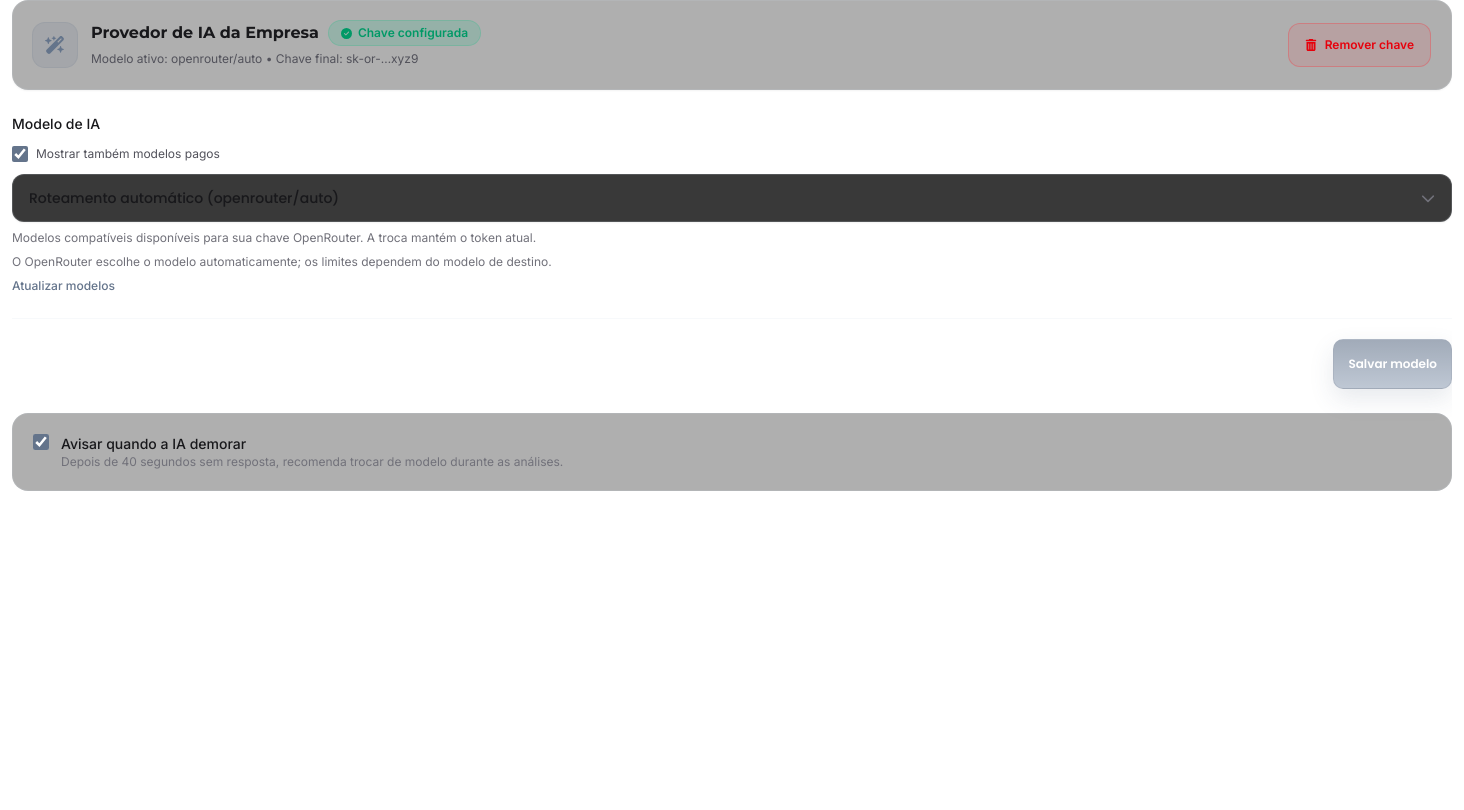
Test: FormIaSettings — cadastro e remoção da chave › filtro de modelos gratuitos › não inventa modelos gratuitos quando o catálogo só contém opções pagas
Click the checkbox labelled "Mostrar também modelos pagos": (20,154) [12,146,28,162]
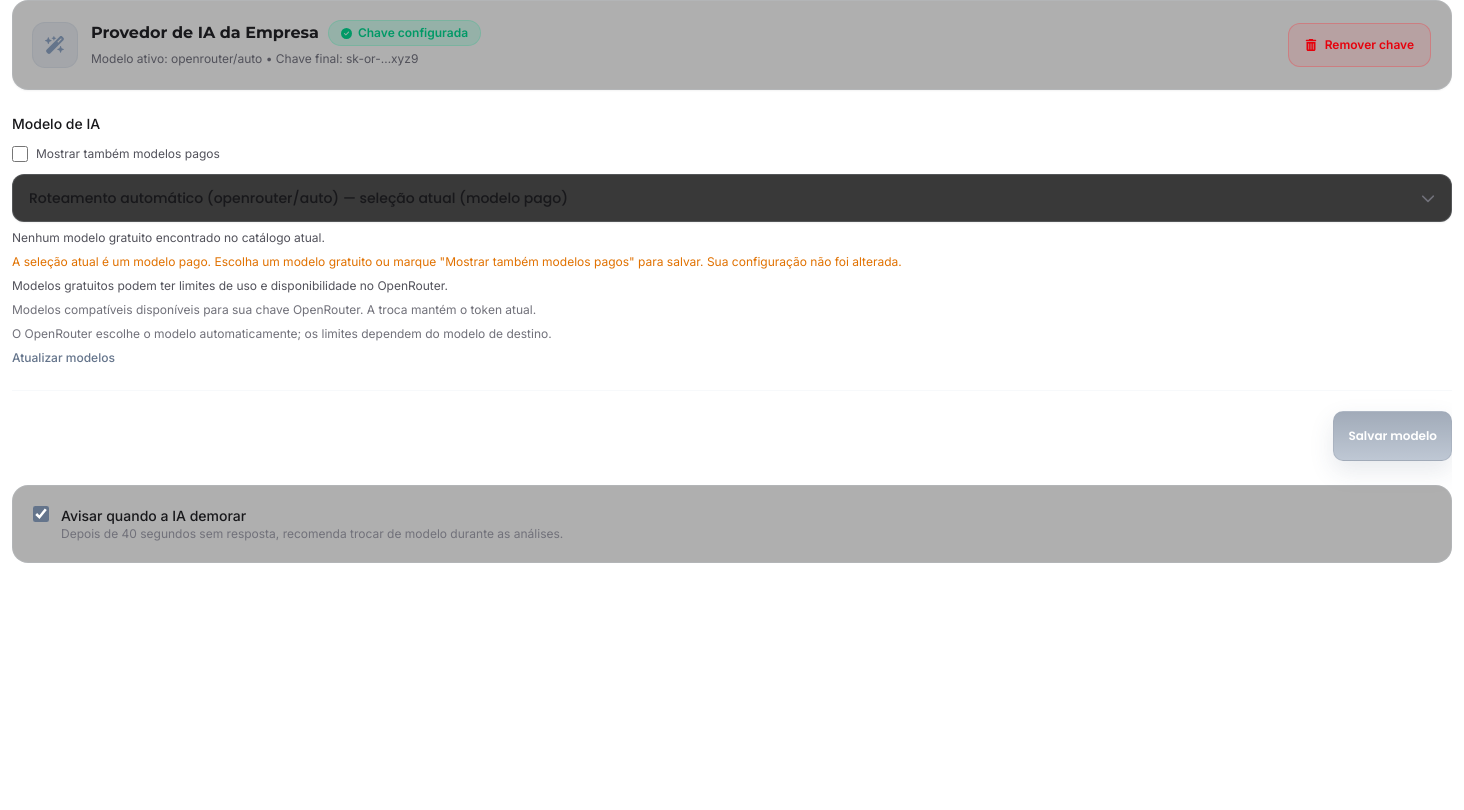
Expected: the button "Salvar modelo" is disabled, [1333,410,1452,460]
Result: the text "Nenhum modelo gratuito encontrado no catálogo atual." is shown at [12,230,325,244]
